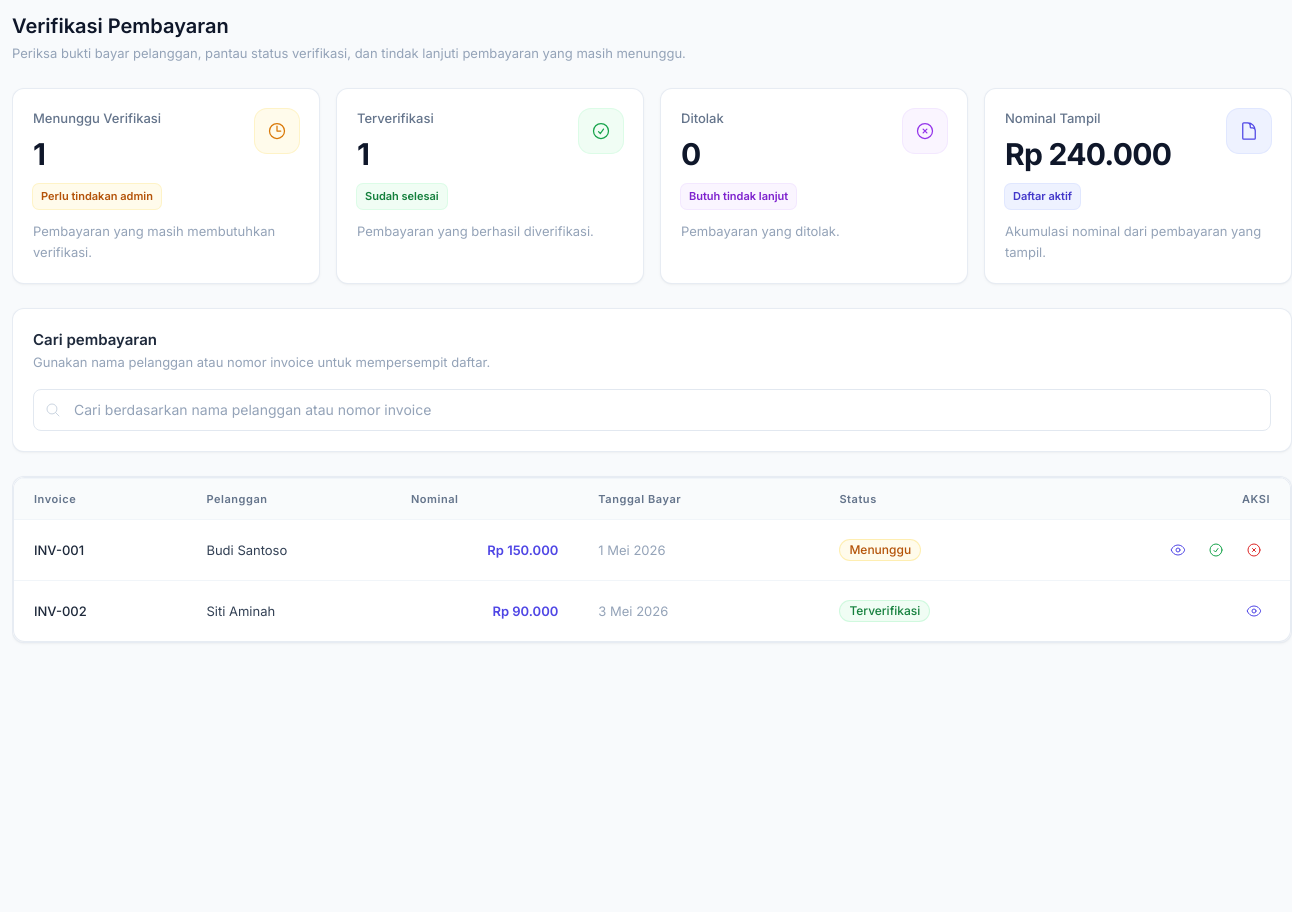
Test: TenantPaymentVerification › loads payment proofs and filters the table by customer or invoice
Type "siti" into the field with placeholder "Cari berdasarkan nama pelanggan atau nomor invoice".
click(652, 410); type("siti")  # box [33,389,1271,431]
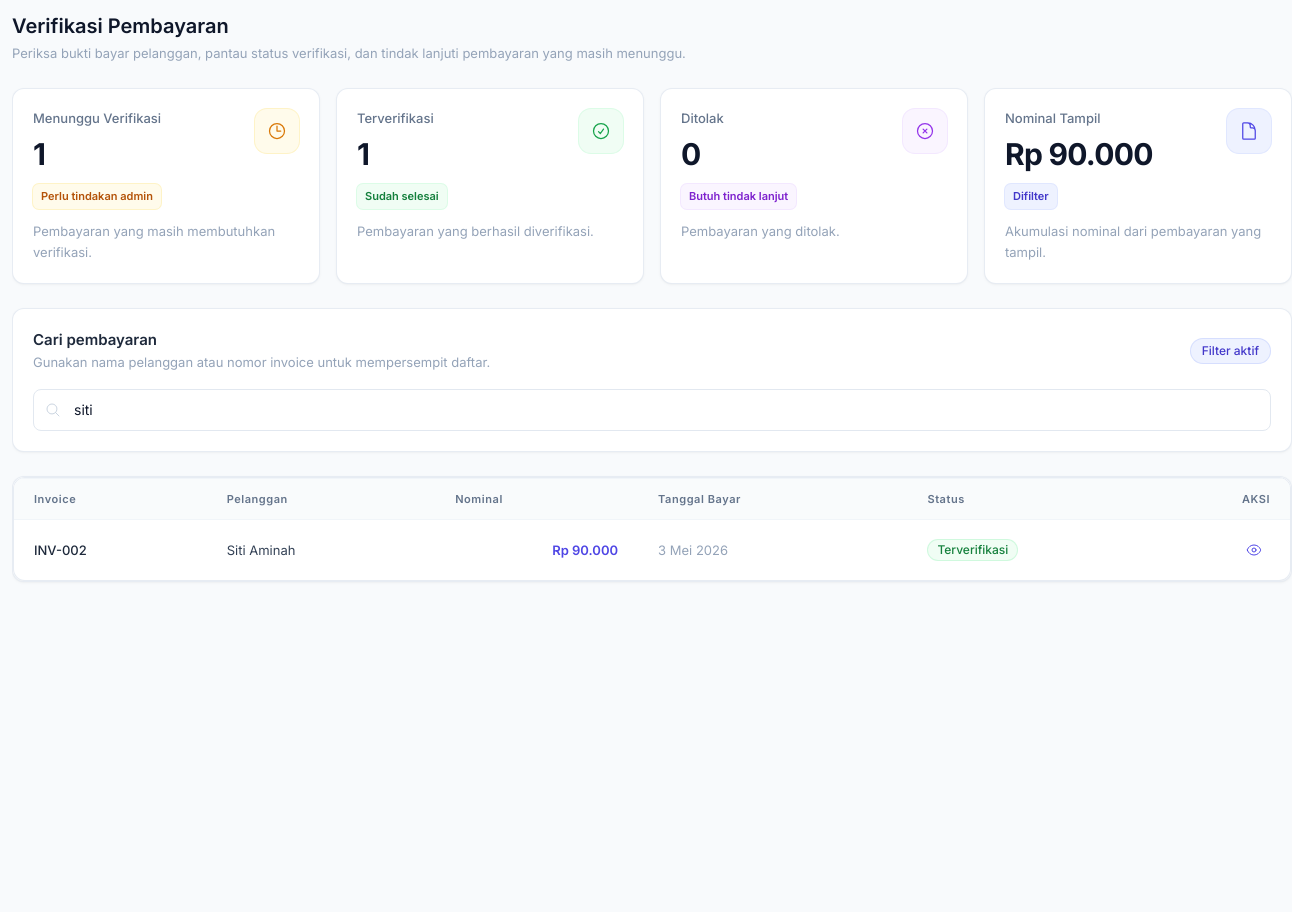
Expected: the text "INV-001" is not shown
